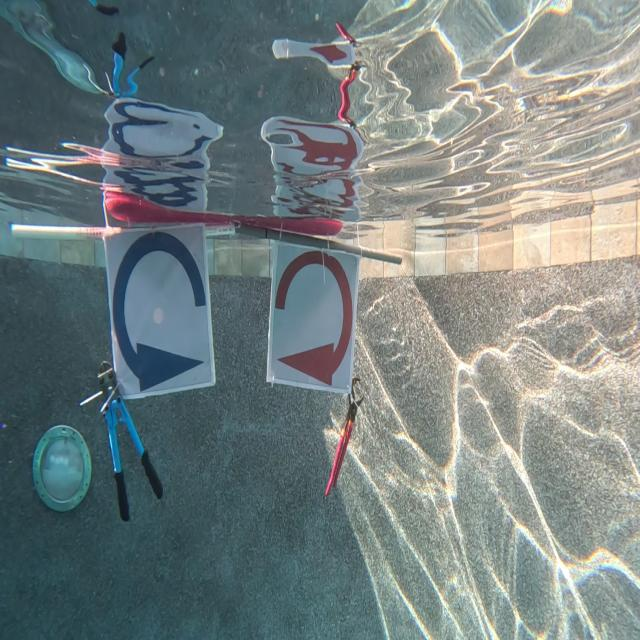blue_side: (102, 227, 216, 401)
red_side: (268, 237, 353, 394)
